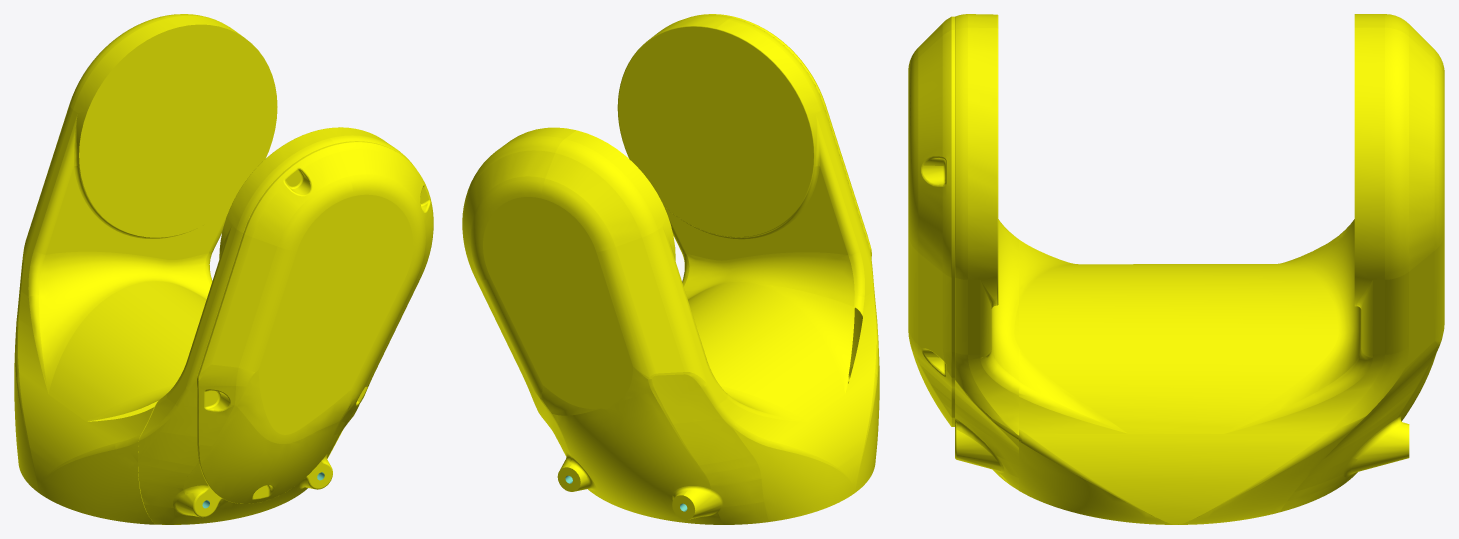
3 renders of one model, left to right at view 1: azimuth 30°, elevation 25°; view 2: azimuth 150°, elevation 25°; view 3: azimuth 270°, elevation 25°, orthographic. The views are drawn at different scales.
Parts seen in each view (by area): view 1: Mesh_0; view 2: Mesh_0; view 3: Mesh_0.
Part boxes in pixels (bbox=[...]): Mesh_0: bbox=[14, 14, 433, 524]; Mesh_0: bbox=[462, 14, 879, 524]; Mesh_0: bbox=[908, 14, 1444, 524].
Bounding box in the file's own units: 0.199 × 0.235 × 0.224.
